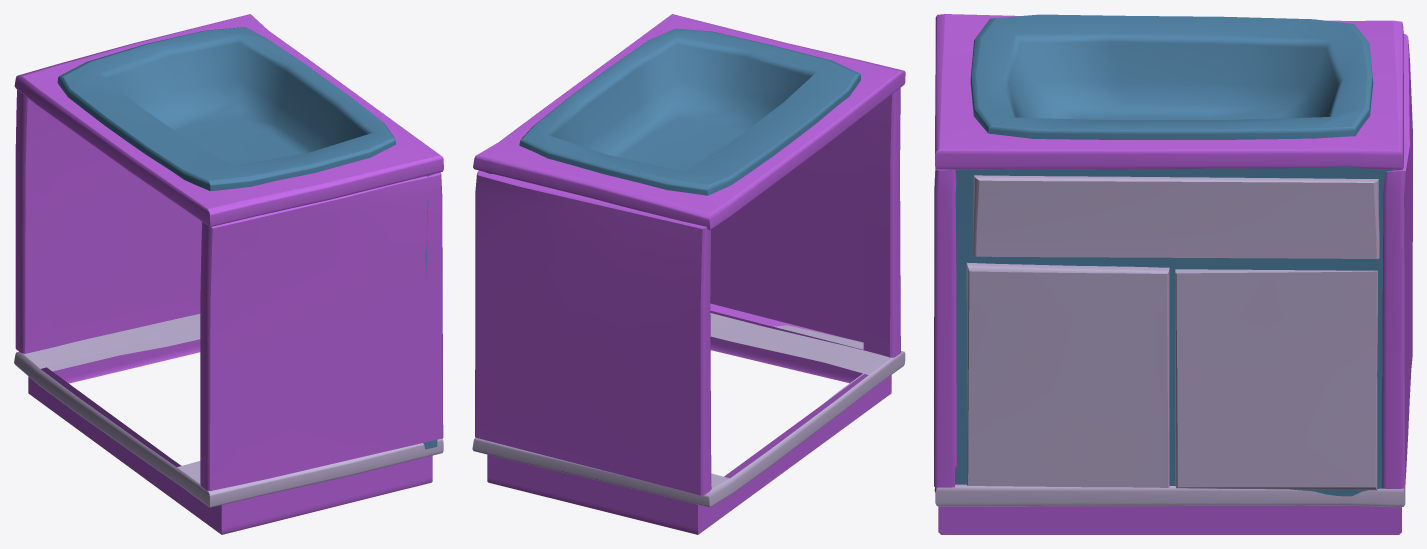
The model's file is Friday_KitchenSinkV2.fbx.
The picture shows the model from 3 angles, left to right: view 1: azimuth 30°, elevation 25°; view 2: azimuth 150°, elevation 25°; view 3: azimuth 270°, elevation 25°; orthographic projection. The views are drawn at different scales.
Visible parts, largest first — view 1: Sink1, Sink3, Sink2; view 2: Sink1, Sink3, Sink2; view 3: Sink2, Sink3, Sink1.
Boxes of the visible parts, <box> form: Sink1: <box>14,14,443,534</box>; Sink3: <box>57,27,437,449</box>; Sink2: <box>14,314,443,507</box>; Sink1: <box>473,14,905,534</box>; Sink3: <box>485,28,860,195</box>; Sink2: <box>472,313,905,507</box>; Sink2: <box>935,175,1405,507</box>; Sink3: <box>934,14,1393,496</box>; Sink1: <box>934,14,1412,534</box>.
Size of the model in its own units: 30.74 by 41.28 by 44.55.
